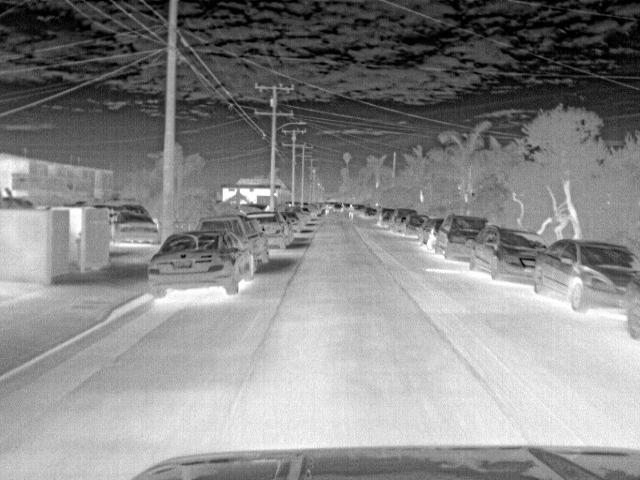car: (144, 228, 258, 297), (534, 239, 640, 313), (468, 223, 548, 285), (198, 216, 273, 267), (435, 213, 490, 262), (243, 212, 298, 248), (113, 213, 162, 244), (420, 218, 446, 248), (401, 214, 430, 236), (390, 209, 419, 230), (280, 209, 303, 233), (382, 208, 402, 228), (303, 204, 319, 218), (364, 208, 382, 220), (300, 208, 314, 223), (331, 202, 344, 214)
person: (347, 204, 357, 222), (323, 200, 333, 214)
